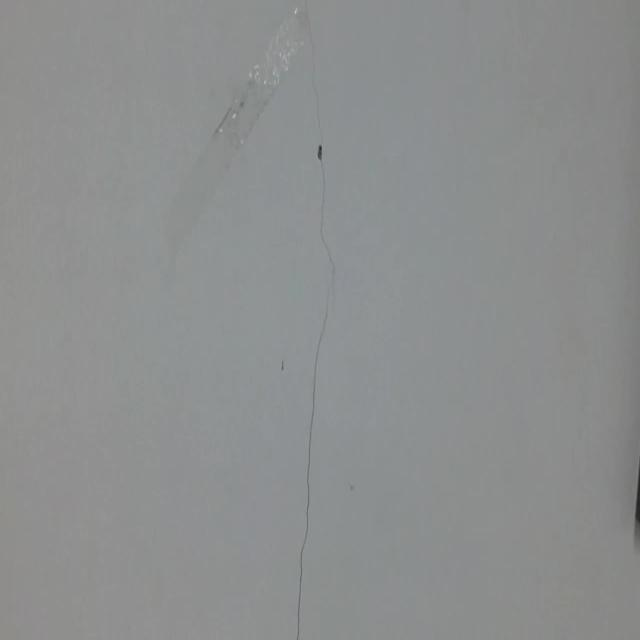Crack: (272, 0, 354, 640)
